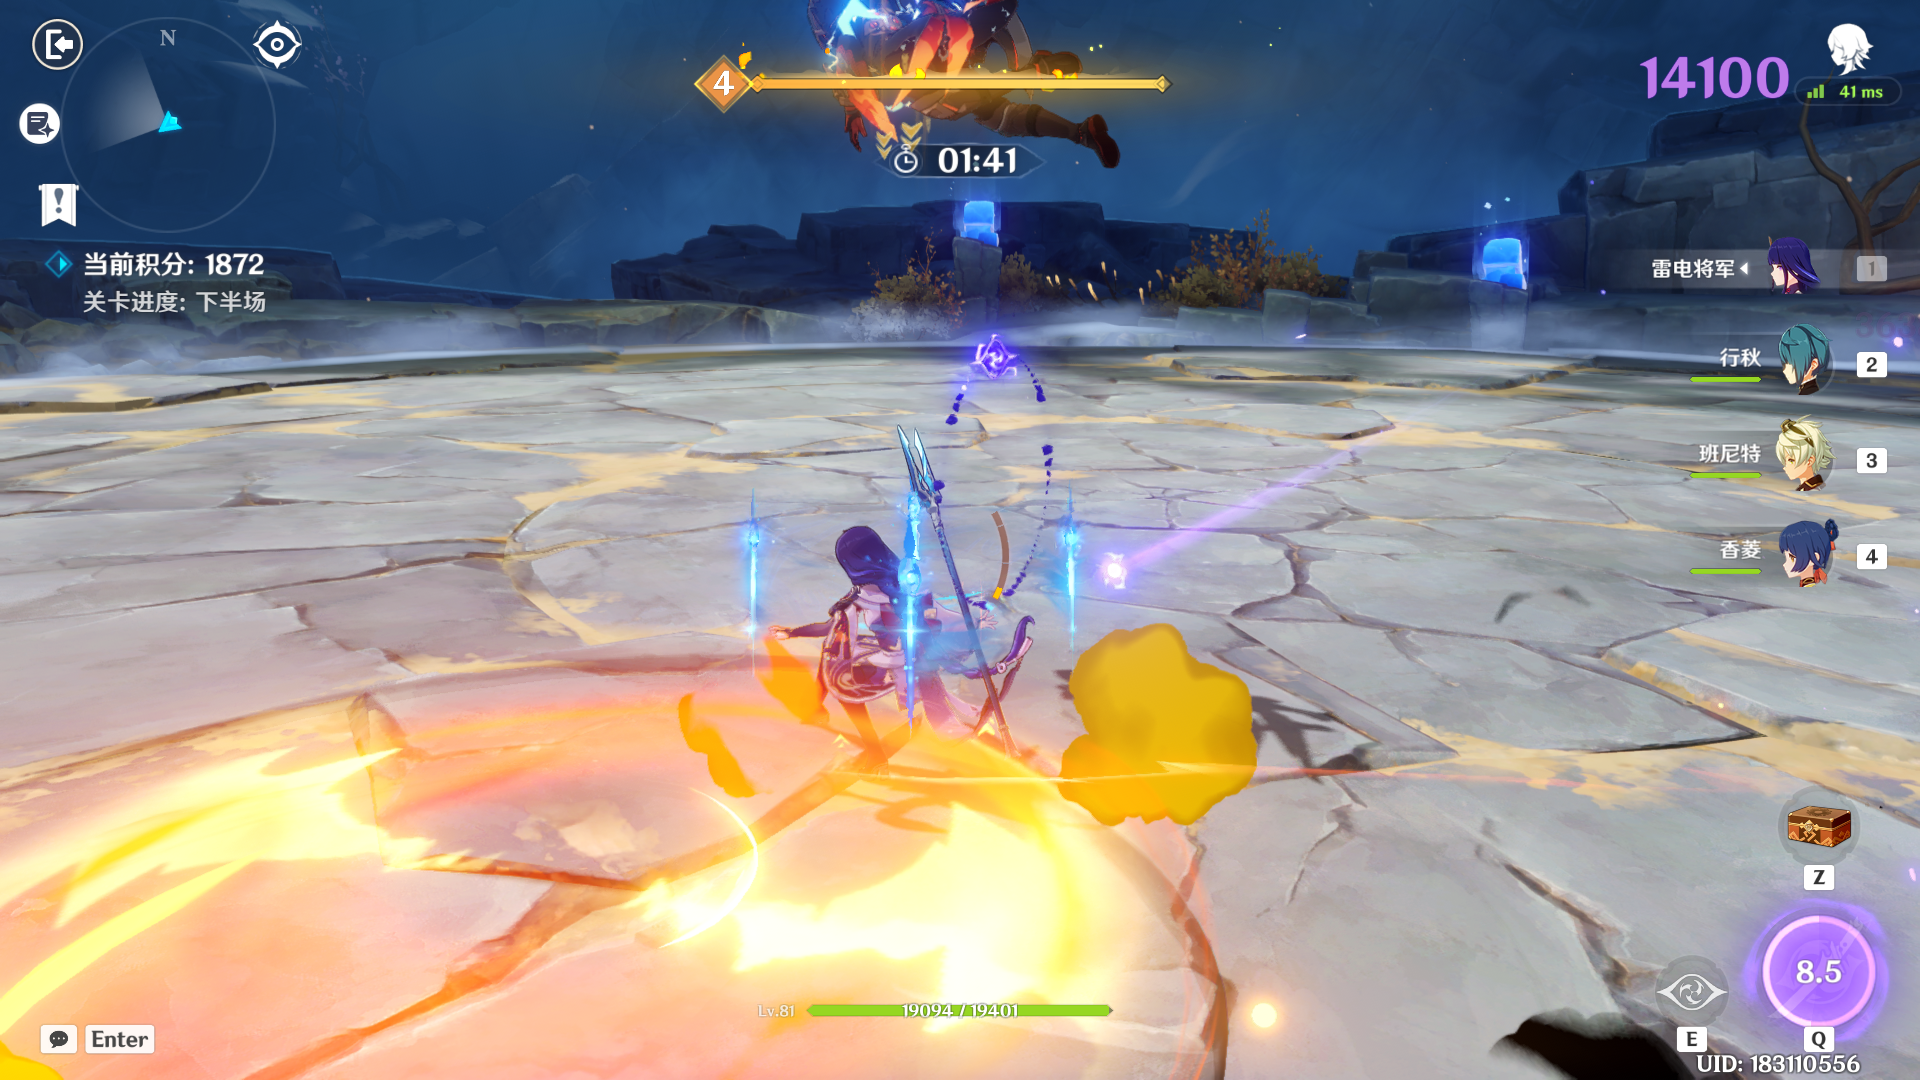character: (731, 455, 1044, 841)
